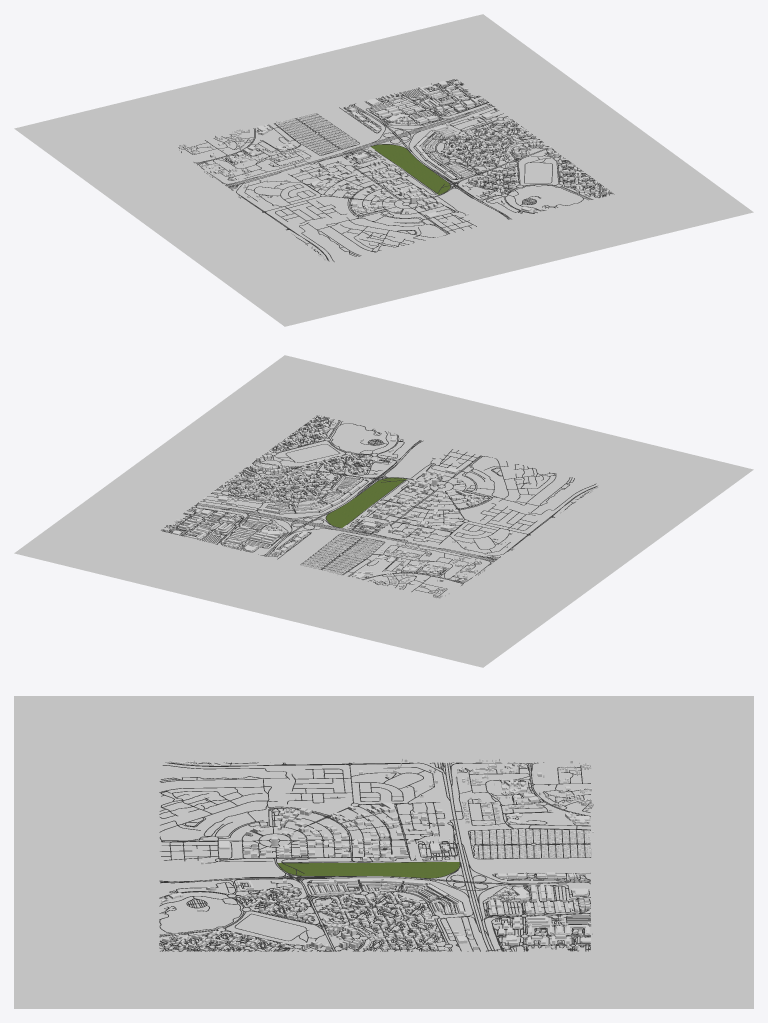
The model's file is KWEC_mini_map.glb.
3 views of the same model, one above another, from view 1: azimuth 30°, elevation 25°; view 2: azimuth 150°, elevation 25°; view 3: azimuth 270°, elevation 25° (orthographic). The views are drawn at different scales.
Parts seen in each view (by area): view 1: land, road, build, tree; view 2: land, road, build, tree; view 3: land, road, build, tree.
Part boxes in pixels (<box>): land: <box>14,14,753,326</box>; road: <box>181,79,614,261</box>; build: <box>178,81,611,260</box>; tree: <box>371,144,450,194</box>; land: <box>14,355,753,667</box>; road: <box>161,415,597,595</box>; build: <box>166,415,598,598</box>; tree: <box>326,477,406,527</box>; land: <box>14,696,753,1008</box>; road: <box>159,762,590,951</box>; build: <box>159,758,593,950</box>; tree: <box>278,862,459,878</box>.
Size of the model in its own units: 7165 by 91.63 by 7165.
4 materials, 1 textured.
